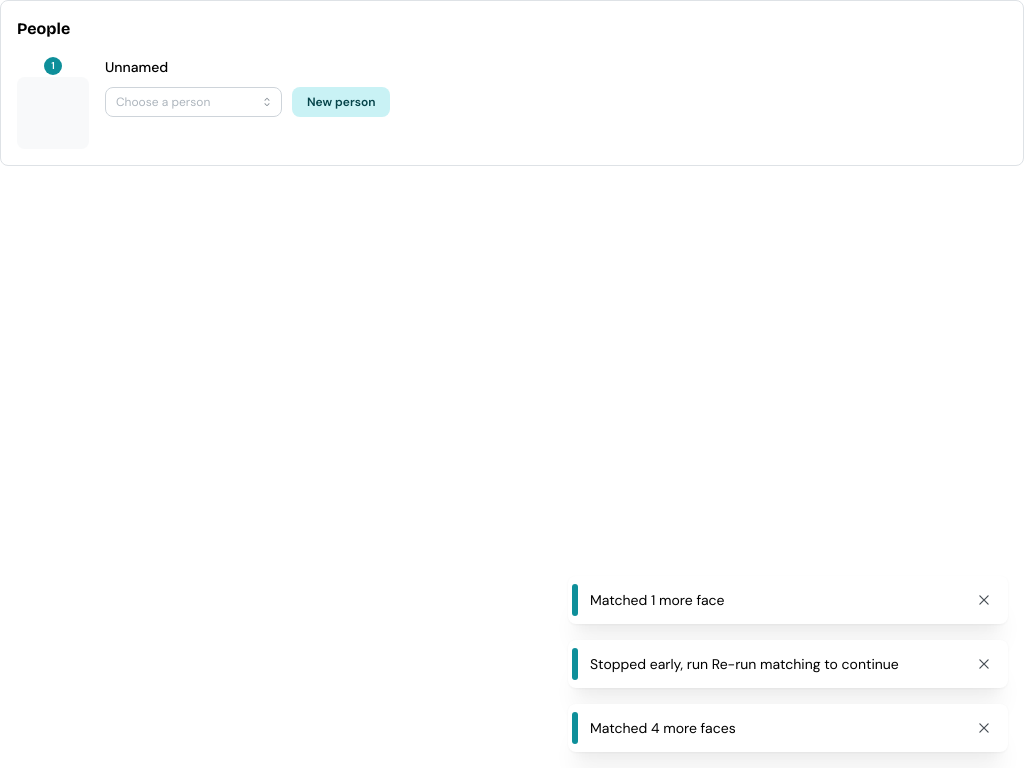
Test: PhotoFaces › still closes the new person form when matching fails after naming
Click the button "New person" at coordinates (341, 102), box [292,87,390,117]
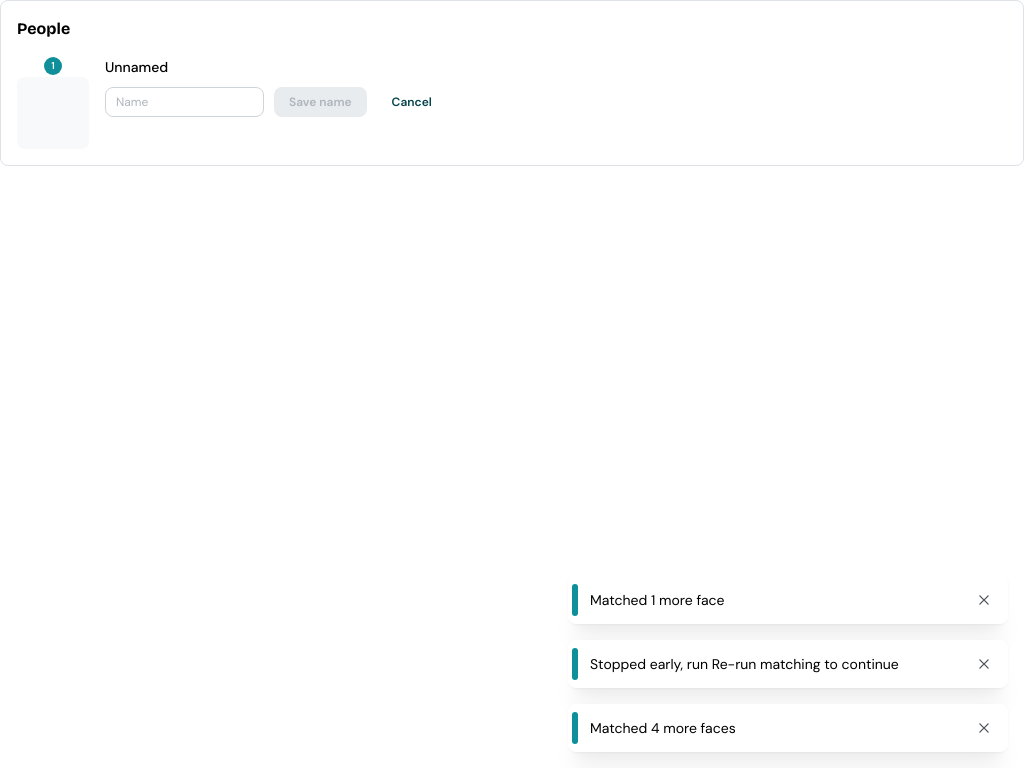
Type "Meera" into the field named "Person name" at coordinates (184, 102), box [105,87,264,117]
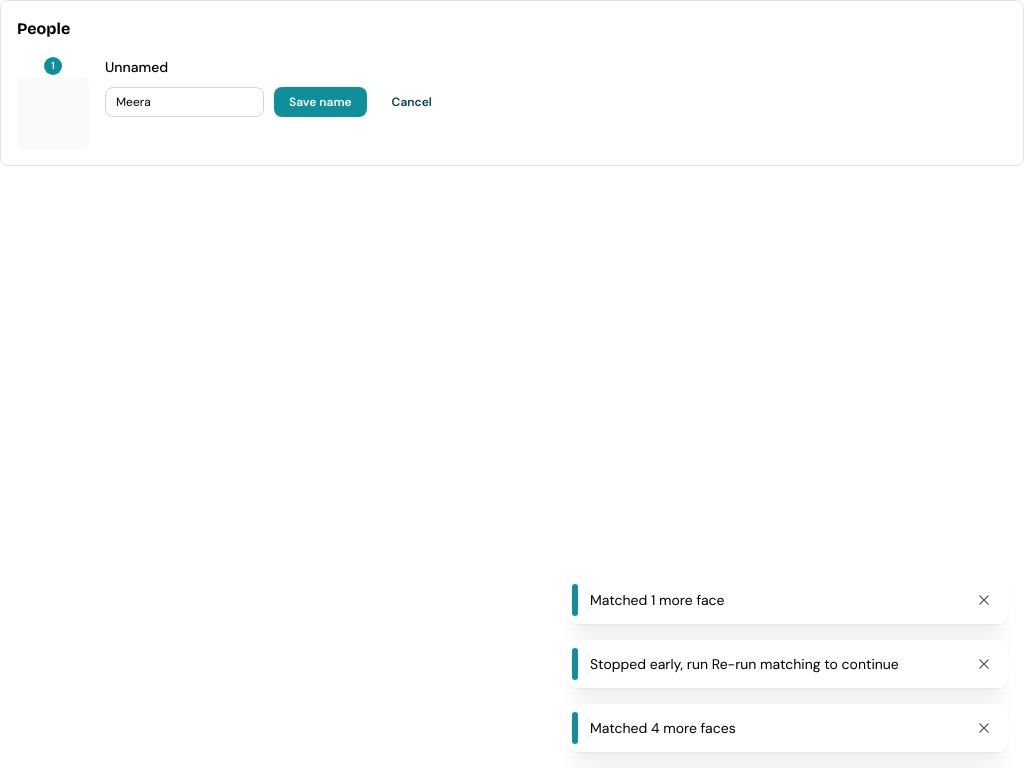
Click the button "Save name" at coordinates (320, 102), box [274,87,367,117]
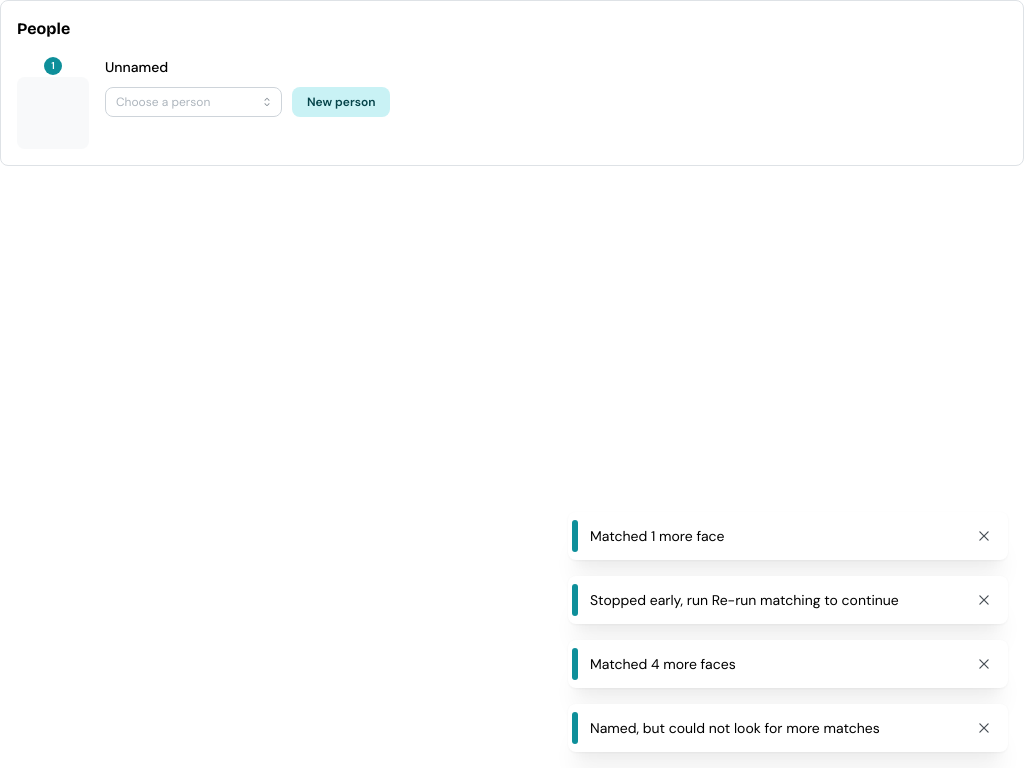
Expected: the field labelled "Person name" is gone
Expected: the field "Could not save the name" is gone
Expected: the text "Named, but could not look for more matches" is shown, [590,719,880,737]
